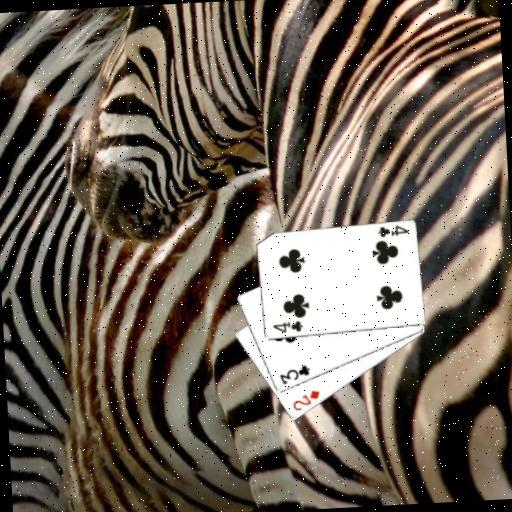2D: (289, 387, 322, 413)
3C: (276, 362, 312, 387)
4C: (374, 222, 410, 239), (269, 318, 304, 335)
